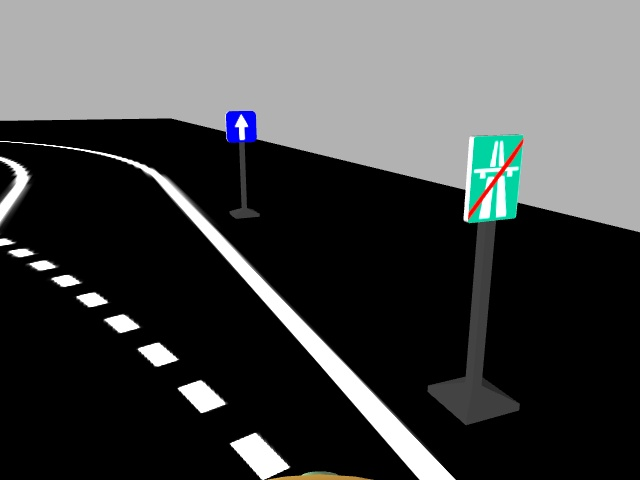HighwayExit: (460, 133, 518, 219)
OneWay: (224, 110, 259, 143)
